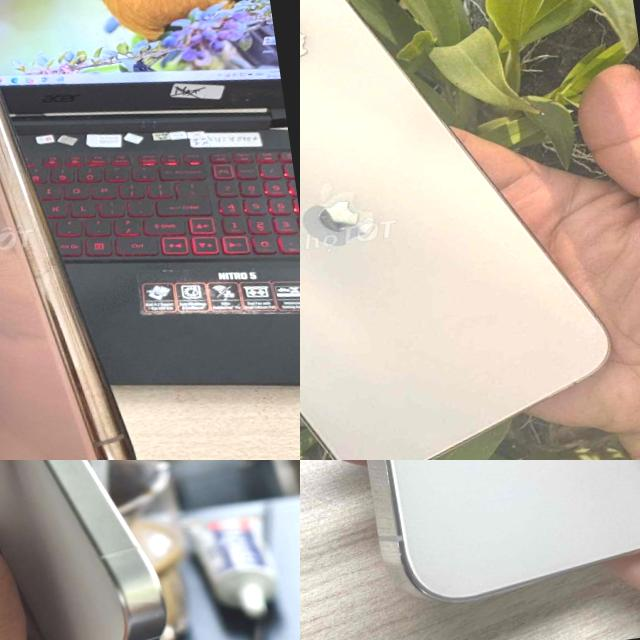gen_12_13: (300, 0, 631, 460)
gen_14: (300, 460, 640, 621)
gen_15: (0, 460, 201, 640)
gen_x_xs: (0, 0, 181, 460)
